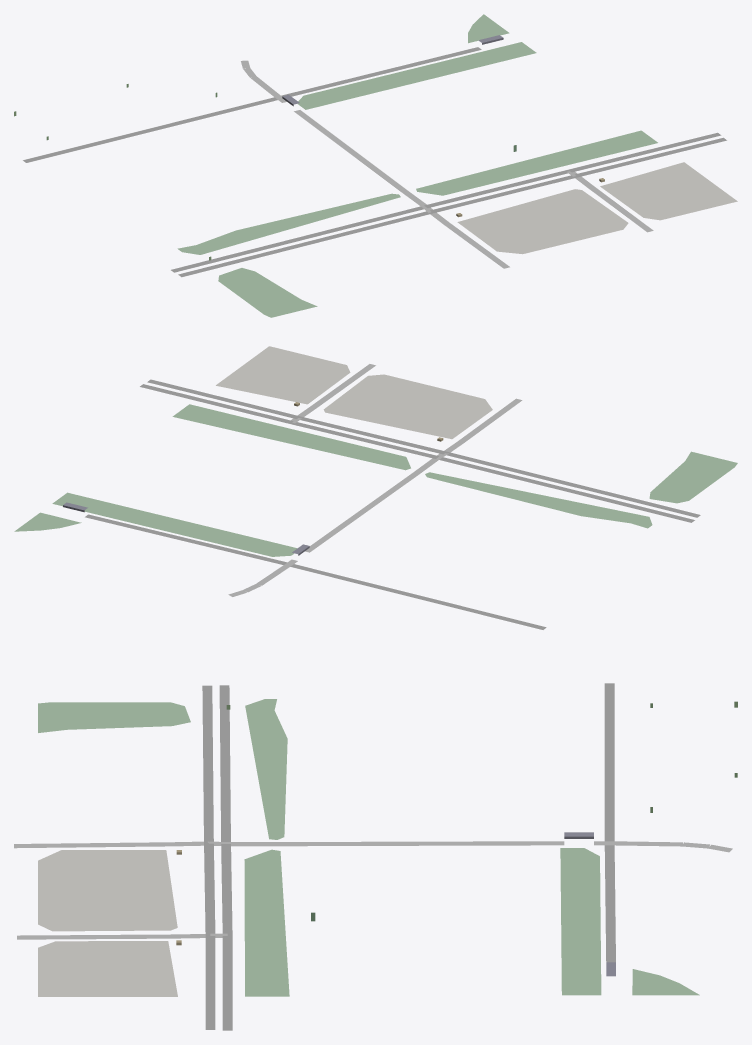
3 views of the same model, one above another, from view 1: azimuth 30°, elevation 25°; view 2: azimuth 150°, elevation 25°; view 3: azimuth 270°, elevation 25° (orthographic). The views are drawn at different scales.
Size of the model in its own units: 585 by 10.75 by 513.
